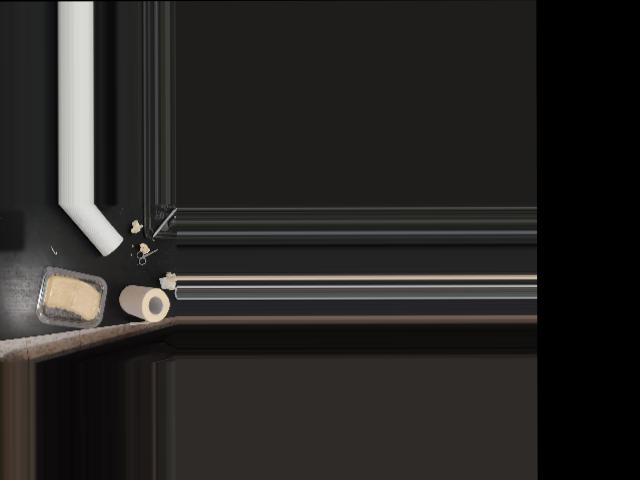cheese: (35, 268, 107, 323)
